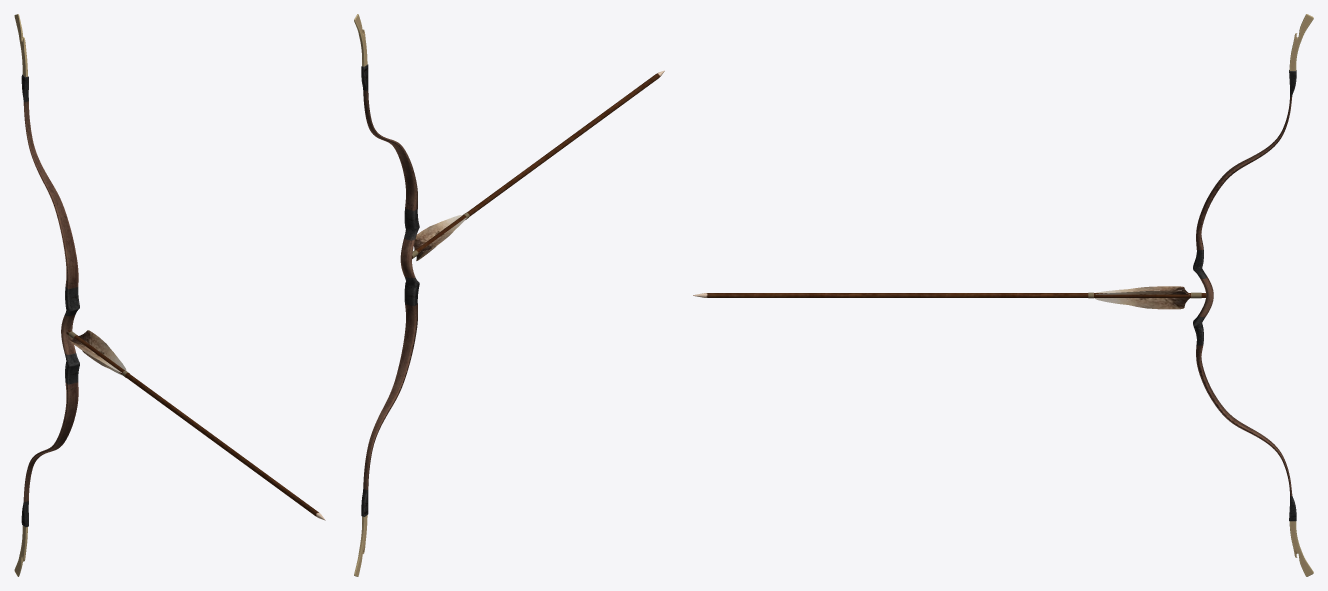
File: hunter_props.glb
3 renders of one model, left to right at view 1: azimuth 30°, elevation 25°; view 2: azimuth 150°, elevation 25°; view 3: azimuth 270°, elevation 25°, orthographic.
Visible parts, largest first — view 1: Bow, Arrow; view 2: Bow, Arrow; view 3: Bow, Arrow.
Boxes of the visible parts, x1,y1,x2,y2 form: Bow: (14, 14, 79, 576); Arrow: (66, 330, 325, 520); Bow: (354, 14, 419, 576); Arrow: (412, 70, 664, 260); Bow: (1193, 14, 1313, 576); Arrow: (693, 286, 1206, 309).
Bounding box in the file's own units: 0.0438 × 1.14 × 1.14.
Materials: 2 (2 with a texture image).
